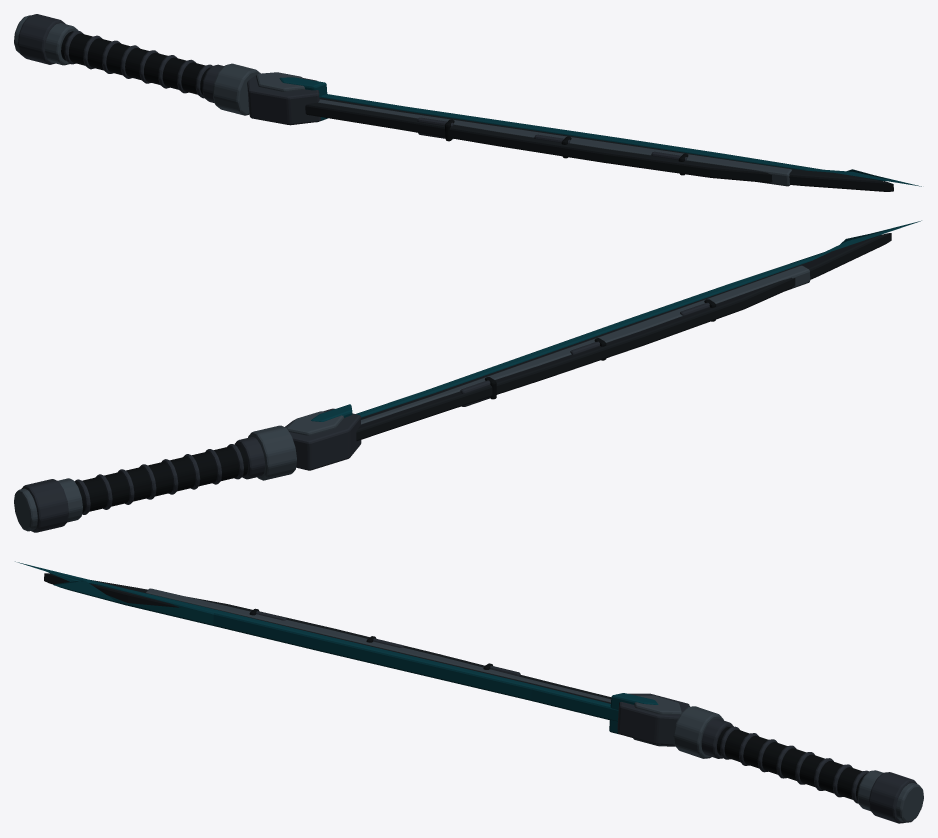
Rendered from cyan_katana.obj.
3 views of the same model, one above another, from view 1: azimuth 90°, elevation 25°; view 2: azimuth 150°, elevation 25°; view 3: azimuth 270°, elevation 25° (orthographic). The views are drawn at different scales.
Visible parts, largest first — view 1: CyberKatana; view 2: CyberKatana; view 3: CyberKatana.
Part boxes in pixels (x1,y1,x2,y2): CyberKatana: (14,14,921,191); CyberKatana: (14,220,921,532); CyberKatana: (15,561,923,823).
Size of the model in its own units: 4.22 by 0.6339 by 7.94.
